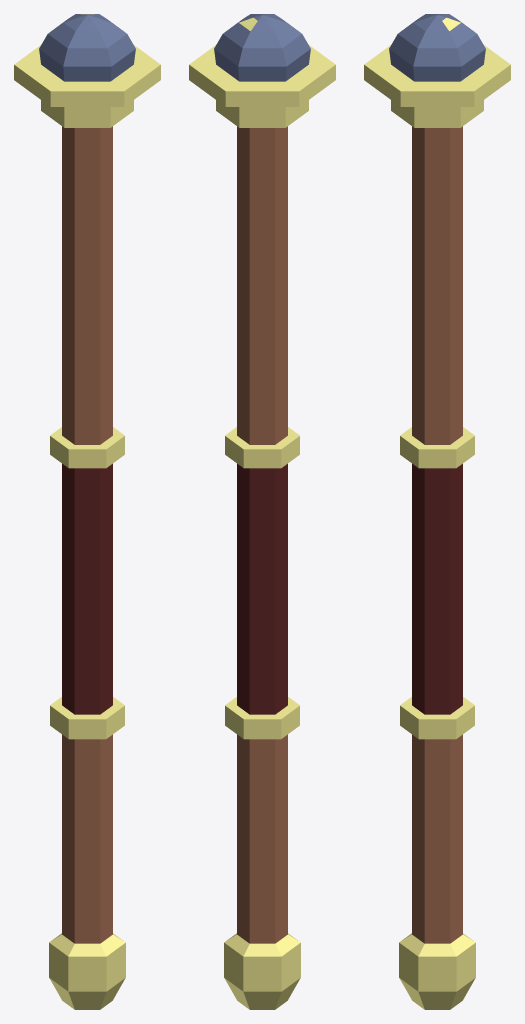
File: Magic staff.fbx
3 views of the same model, side by side, from view 1: azimuth 30°, elevation 25°; view 2: azimuth 150°, elevation 25°; view 3: azimuth 270°, elevation 25° (orthographic).
Parts seen in each view (by area): view 1: Magic staff; view 2: Magic staff; view 3: Magic staff.
Boxes of the visible parts, x1,y1,x2,y2 form: Magic staff: (14,14,160,1009); Magic staff: (189,14,335,1009); Magic staff: (364,14,510,1009).
Bounding box in the file's own units: 25.47 × 218 × 29.41.
